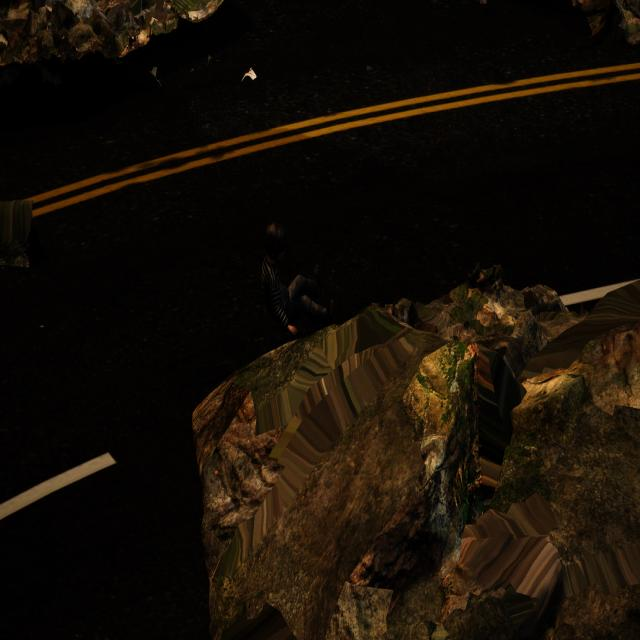Human: (255, 216, 342, 349)
